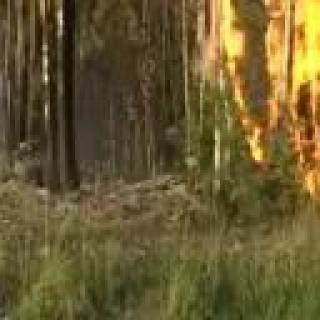fire: (196, 0, 320, 159), (279, 165, 320, 225)
